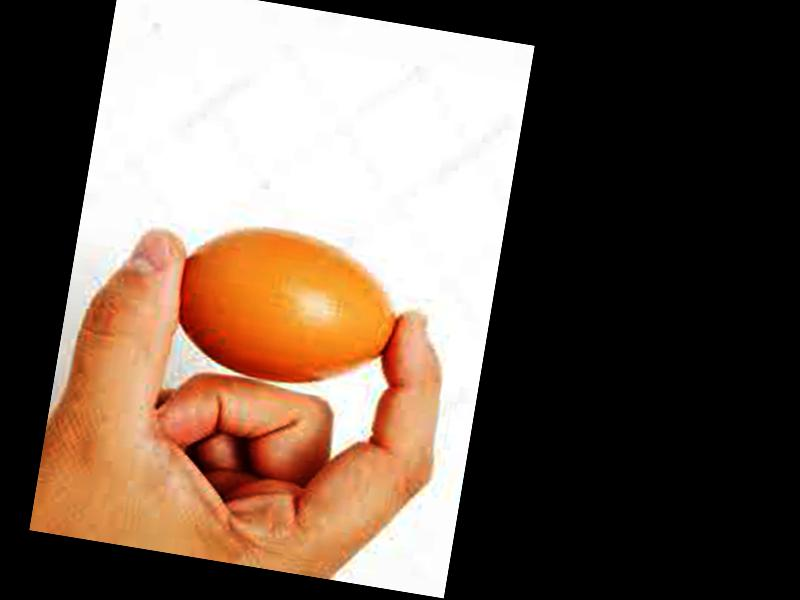Eggs: (167, 214, 412, 400)
